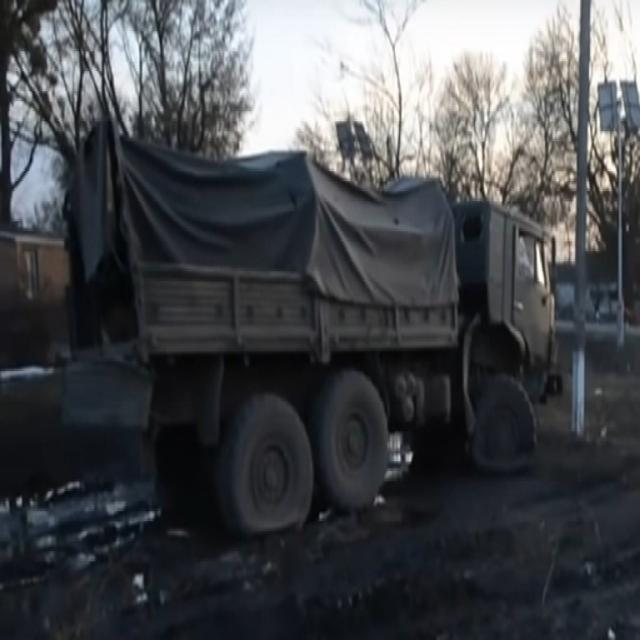TRUCK: (62, 135, 562, 556)
